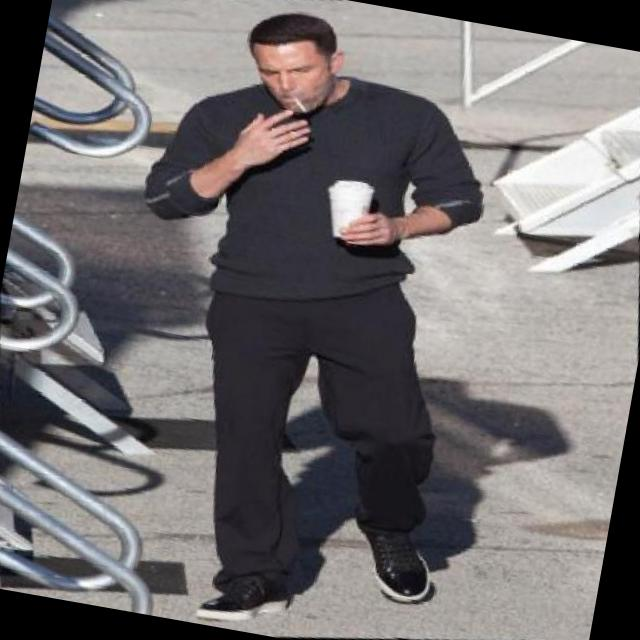smoke: (290, 95, 314, 120)
